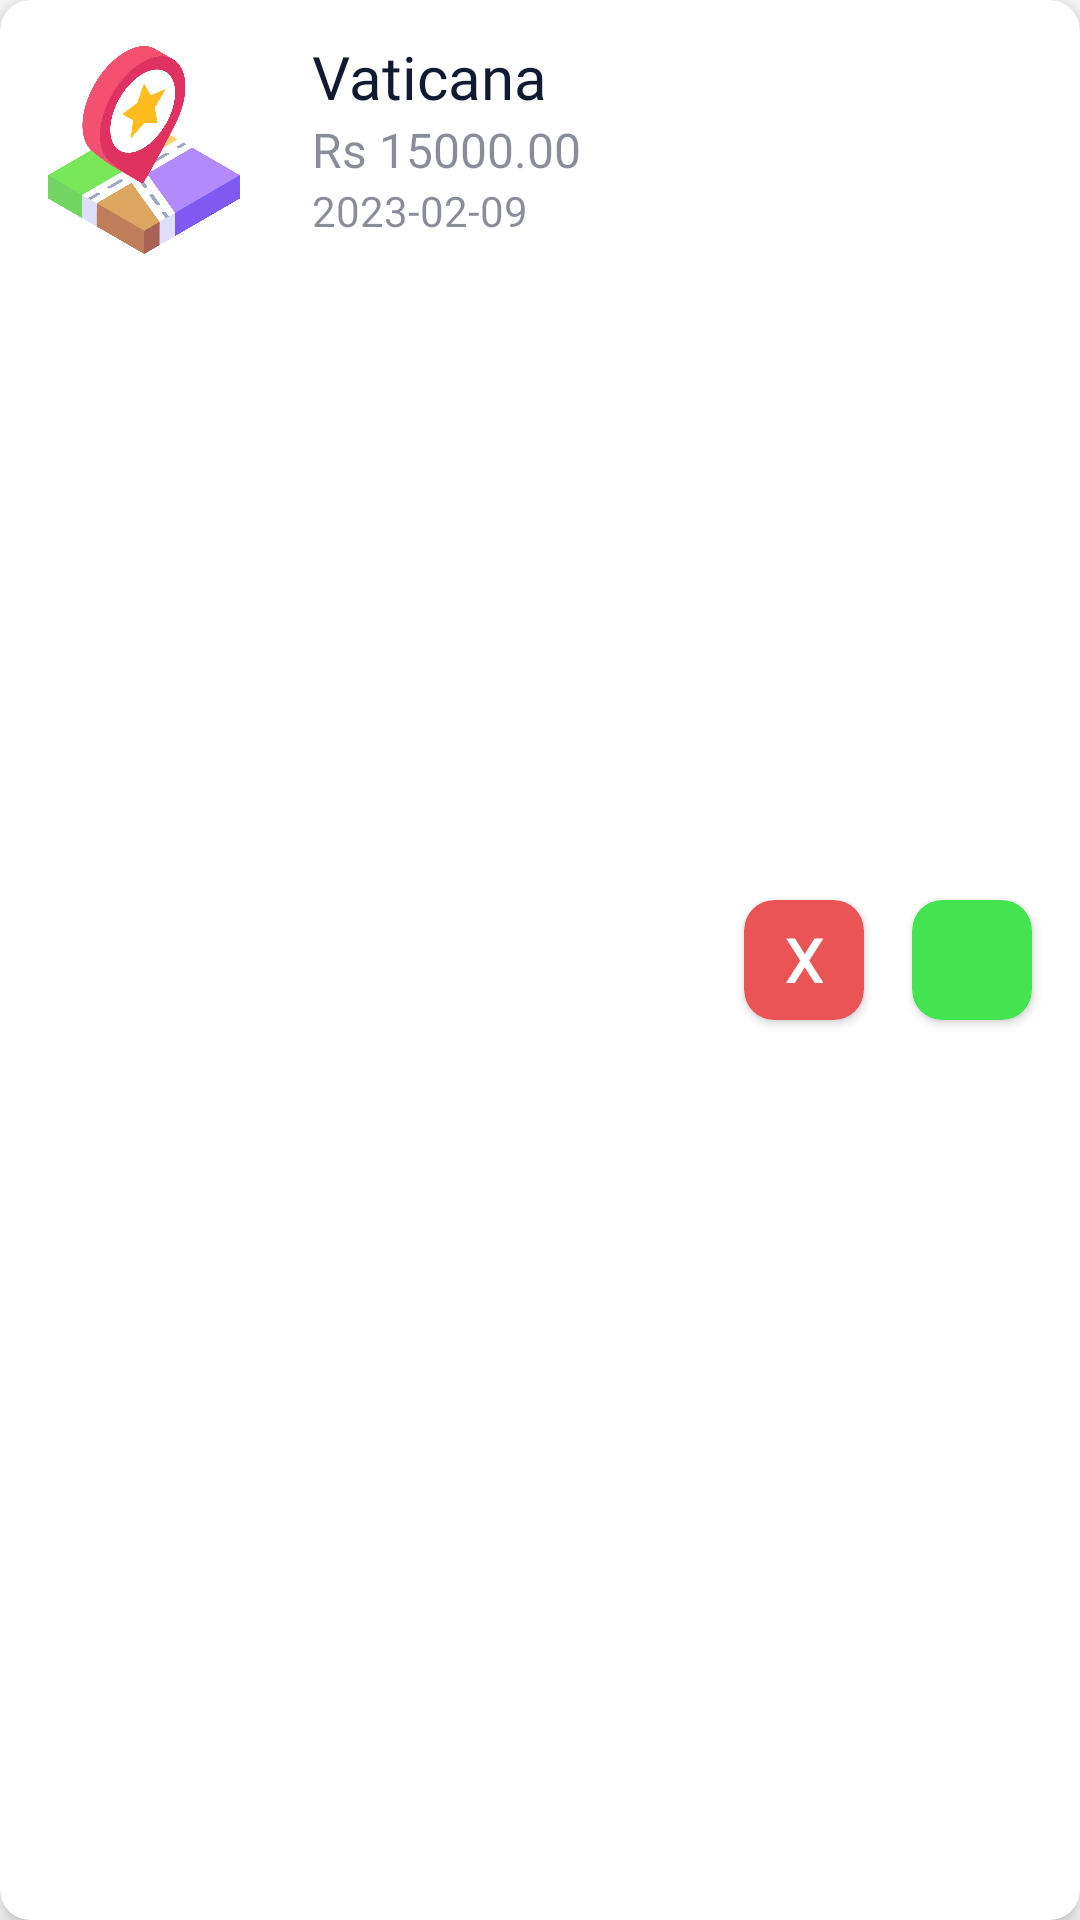

Point at icon controls on the screen. Image size 1080w x 1920h, points as point (x, y).
favplaceholder: point (144, 150)
